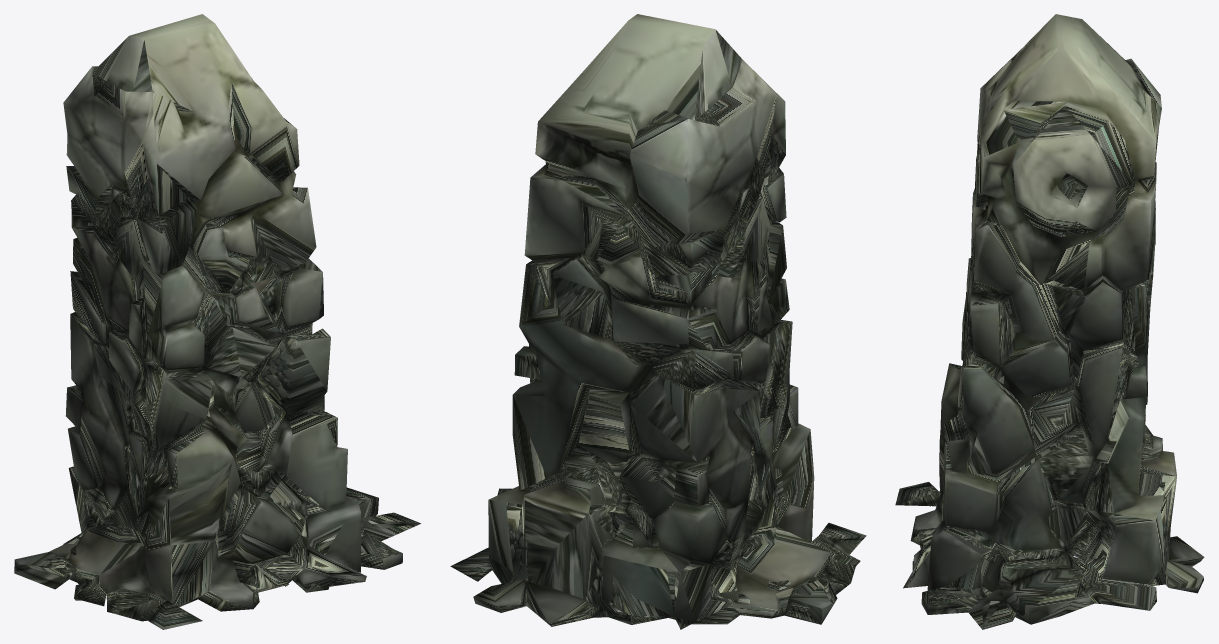
The model's file is Ancient_Obelisk.glb.
3 views of the same model, side by side, from view 1: azimuth 30°, elevation 25°; view 2: azimuth 150°, elevation 25°; view 3: azimuth 270°, elevation 25° (orthographic). The views are drawn at different scales.
Visible parts, largest first — view 1: Ancient_Obelisk; view 2: Ancient_Obelisk; view 3: Ancient_Obelisk.
Part boxes in pixels (x1=…): Ancient_Obelisk: x1=14, y1=14, x2=420, y2=629; Ancient_Obelisk: x1=450, y1=14, x2=866, y2=629; Ancient_Obelisk: x1=895, y1=14, x2=1204, y2=629.
Size of the model in its own units: 1.42 by 1.99 by 1.09.
1 material, 1 textured.
